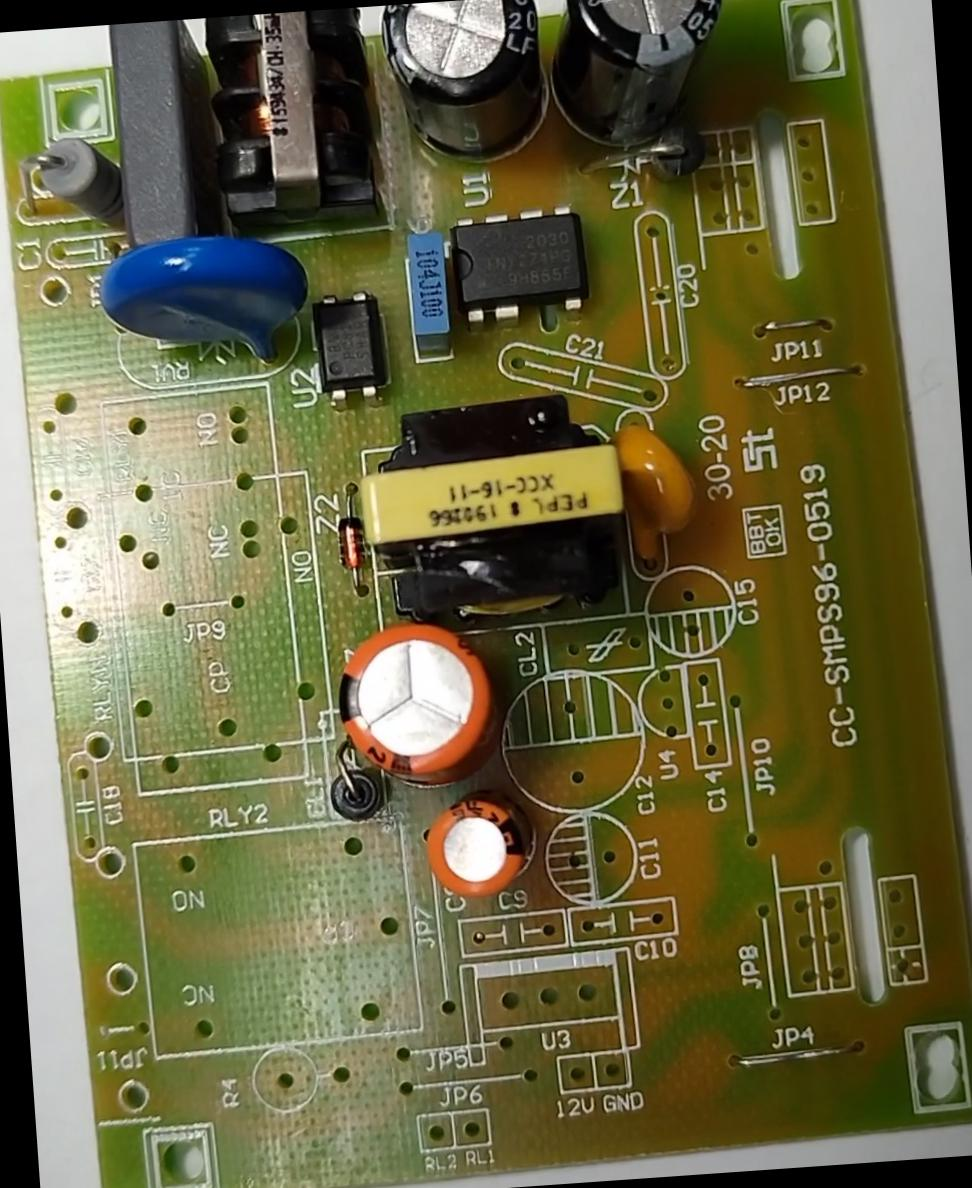Cap1: (332, 614, 502, 792)
Cap2: (420, 796, 530, 899)
Cap3: (375, 0, 555, 177)
Cap4: (548, 0, 734, 155)
MOSFET: (449, 200, 594, 325)
Mov: (92, 226, 317, 384)
Resistor: (33, 131, 123, 230)
Transformer: (358, 389, 632, 615), (198, 7, 387, 238)
